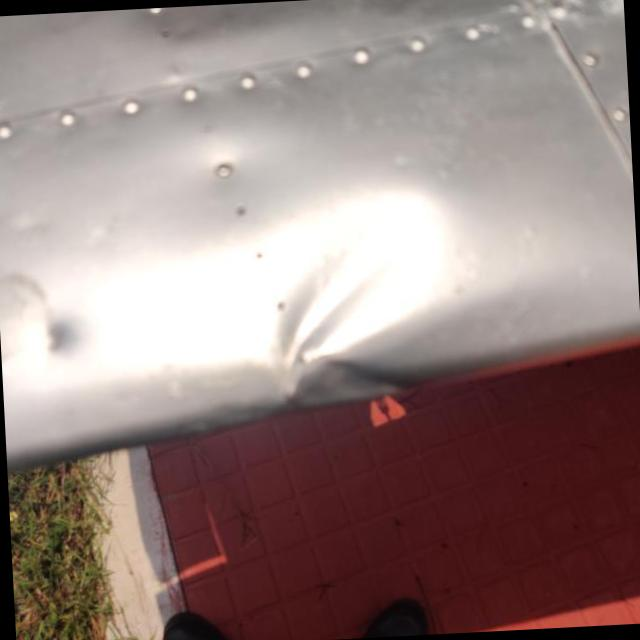Dent: (246, 194, 455, 405), (0, 274, 80, 380)
